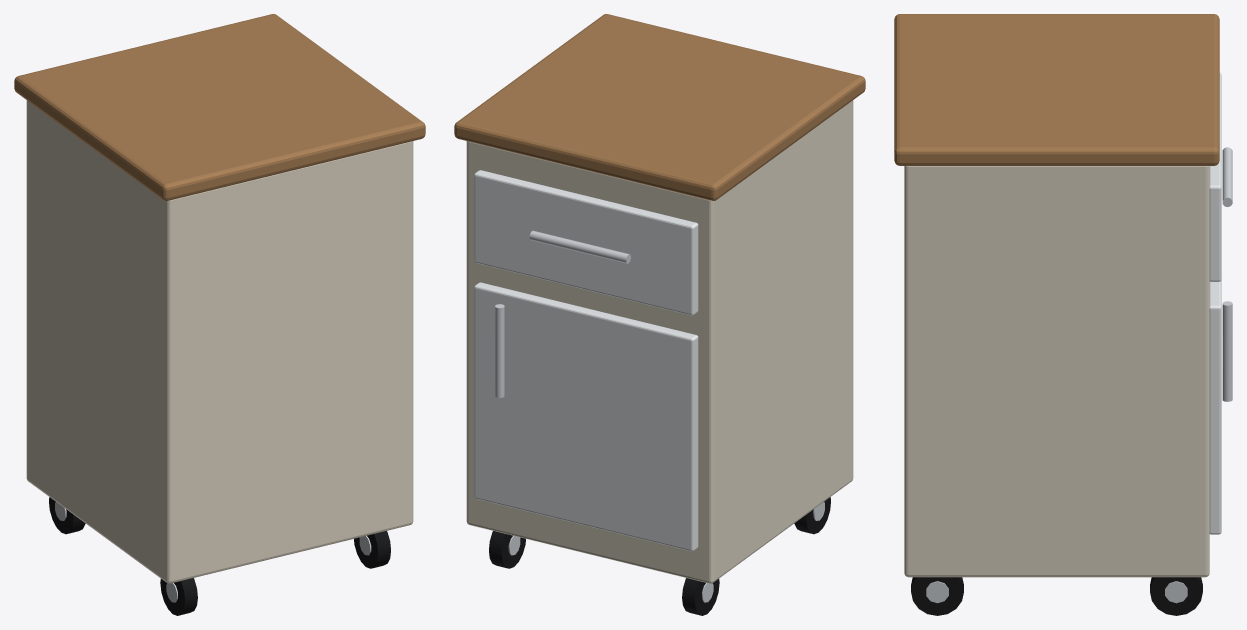
Rendered from Bedside_Cabinet.glb.
3 views of the same model, side by side, from view 1: azimuth 30°, elevation 25°; view 2: azimuth 150°, elevation 25°; view 3: azimuth 270°, elevation 25° (orthographic). The views are drawn at different scales.
Parts seen in each view (by area): view 1: Body.001, Top, Wheel.014, Wheel.016, Wheel.015; view 2: Body.001, DoorFront, Top, DrawerFront, DrawerHandle, Wheel.015, DoorHandle, Wheel.017, Wheel.014; view 3: Body.001, Top, DoorFront, DrawerFront, Wheel.016, Wheel.017, DoorHandle, DrawerHandle.
Boxes of the visible parts, left/top/right/bottom form: Body.001: left=26, top=100, right=413, bottom=583; Top: left=14, top=14, right=425, bottom=200; Wheel.014: left=160, top=578, right=197, bottom=615; Wheel.016: left=354, top=531, right=390, bottom=568; Wheel.015: left=49, top=497, right=85, bottom=534; Body.001: left=466, top=100, right=853, bottom=583; DoorFront: left=474, top=282, right=698, bottom=551; Top: left=454, top=14, right=865, bottom=200; DrawerFront: left=474, top=170, right=698, bottom=315; DrawerHandle: left=529, top=230, right=630, bottom=263; Wheel.015: left=682, top=578, right=719, bottom=615; DoorHandle: left=495, top=304, right=504, bottom=397; Wheel.017: left=489, top=531, right=525, bottom=568; Wheel.014: left=794, top=497, right=830, bottom=534; Body.001: left=904, top=166, right=1209, bottom=577; Top: left=894, top=14, right=1219, bottom=165; DoorFront: left=1209, top=280, right=1221, bottom=534; DrawerFront: left=1209, top=73, right=1221, bottom=281; Wheel.016: left=911, top=577, right=963, bottom=615; Wheel.017: left=1150, top=577, right=1202, bottom=615; DoorHandle: left=1222, top=301, right=1232, bottom=401; DrawerHandle: left=1222, top=147, right=1232, bottom=206.
Bounding box in the file's own units: 0.49 × 0.8 × 0.5096.
